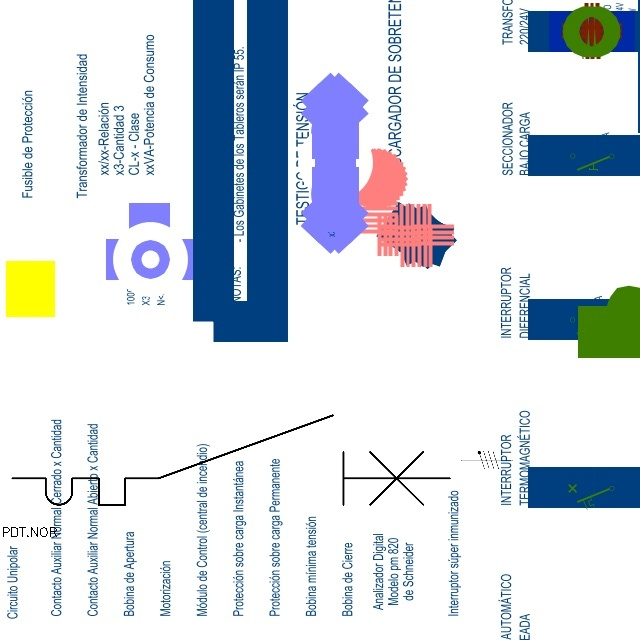interruptor_termomagnetico: (1, 404, 461, 516)
